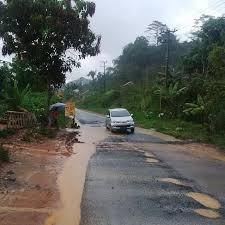Pothole: (40, 112, 113, 225), (98, 134, 225, 170), (182, 188, 225, 217), (150, 174, 205, 195)
